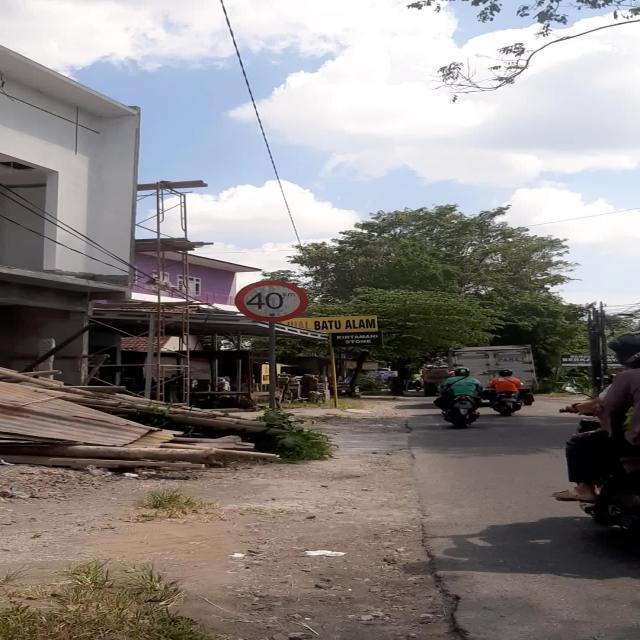Kecepatan Maks. 40 km: (234, 280, 309, 322)
